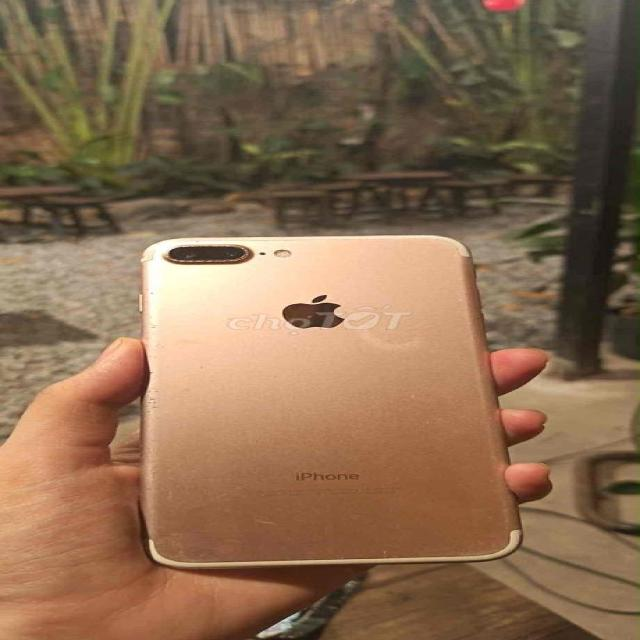scratch: (146, 240, 261, 266), (164, 521, 218, 560), (154, 480, 249, 502), (135, 366, 162, 422), (486, 487, 514, 530), (228, 514, 286, 528), (135, 316, 163, 339), (452, 274, 471, 306), (368, 547, 404, 560), (140, 277, 163, 297), (486, 445, 505, 465)
